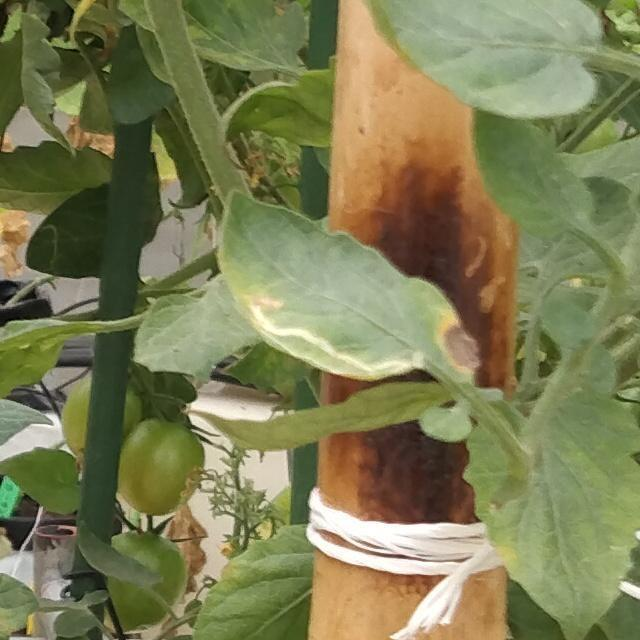Leaf_Miner: (218, 184, 488, 400)
